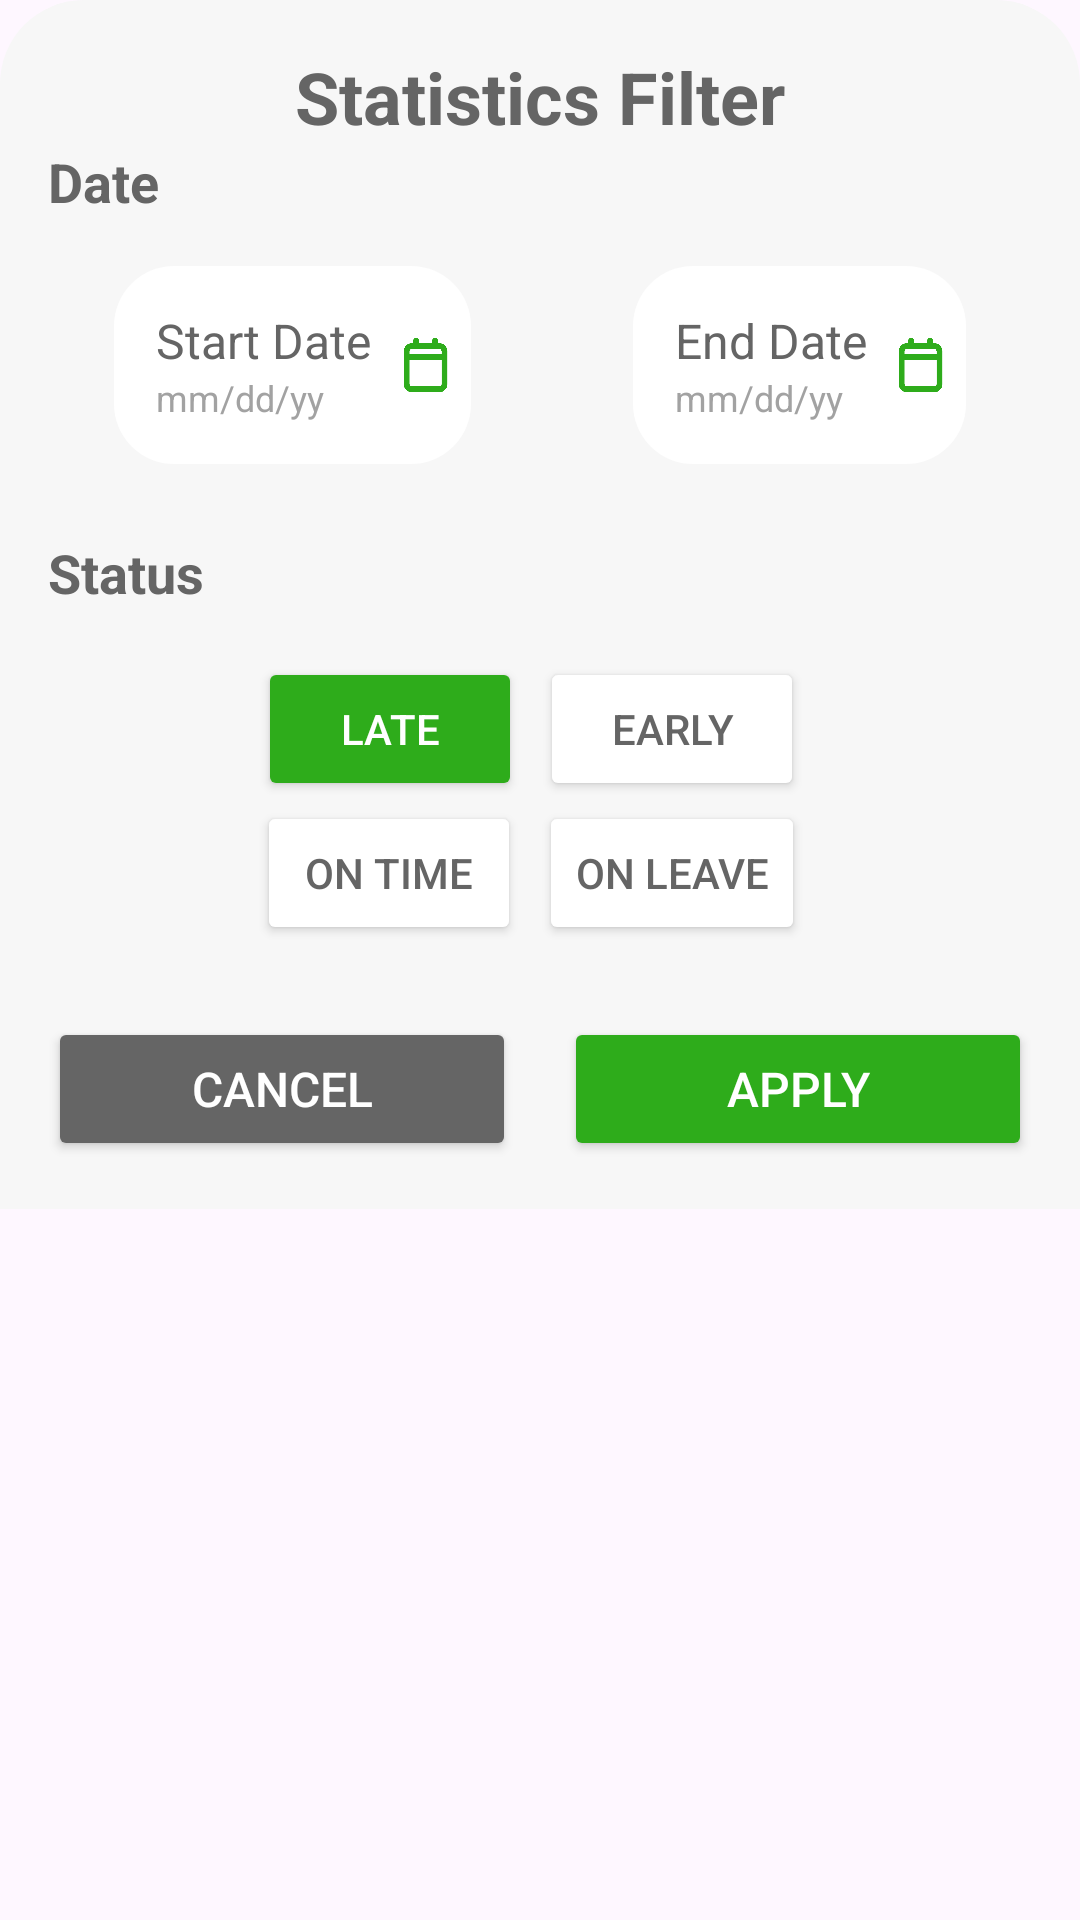

Screen size 1080x1920. Icon name, then its box in pixels as bbox=(x1, y1, x2, y2):
calender: bbox=(404, 338, 448, 392), bbox=(899, 338, 943, 392)
